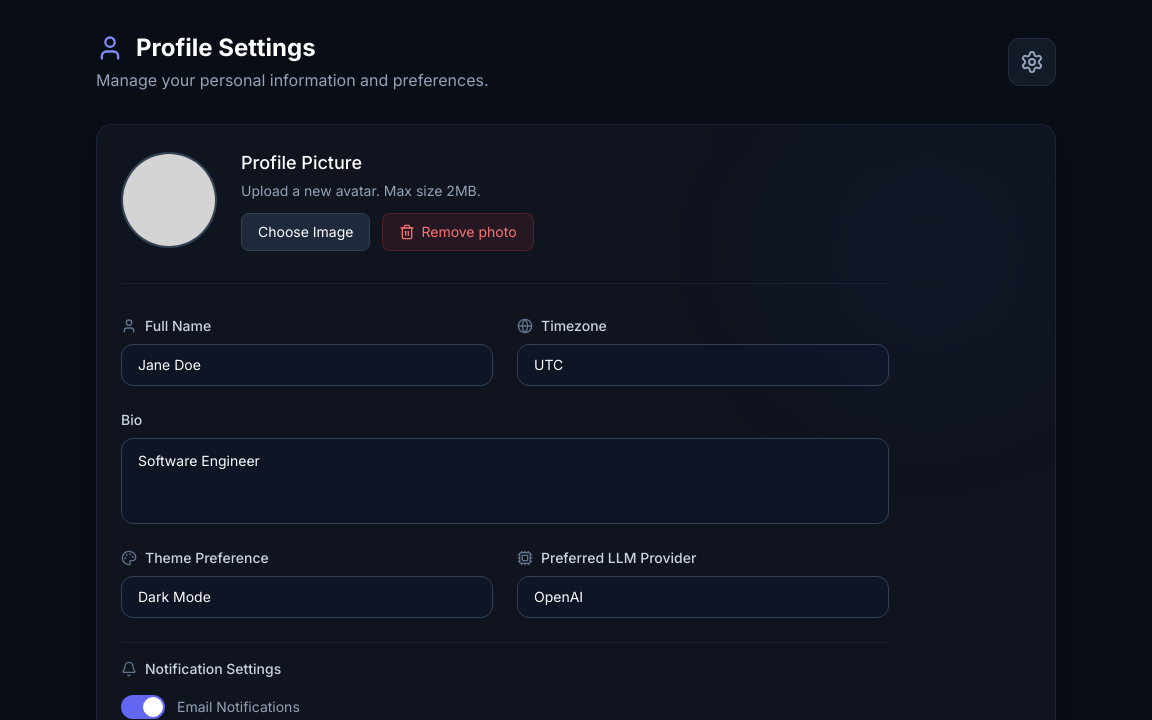
Test: ProfilePage and Photo Update › handles error gracefully when remove photo API fails
Click the button "Remove photo": [458, 232] box [382,213,534,251]
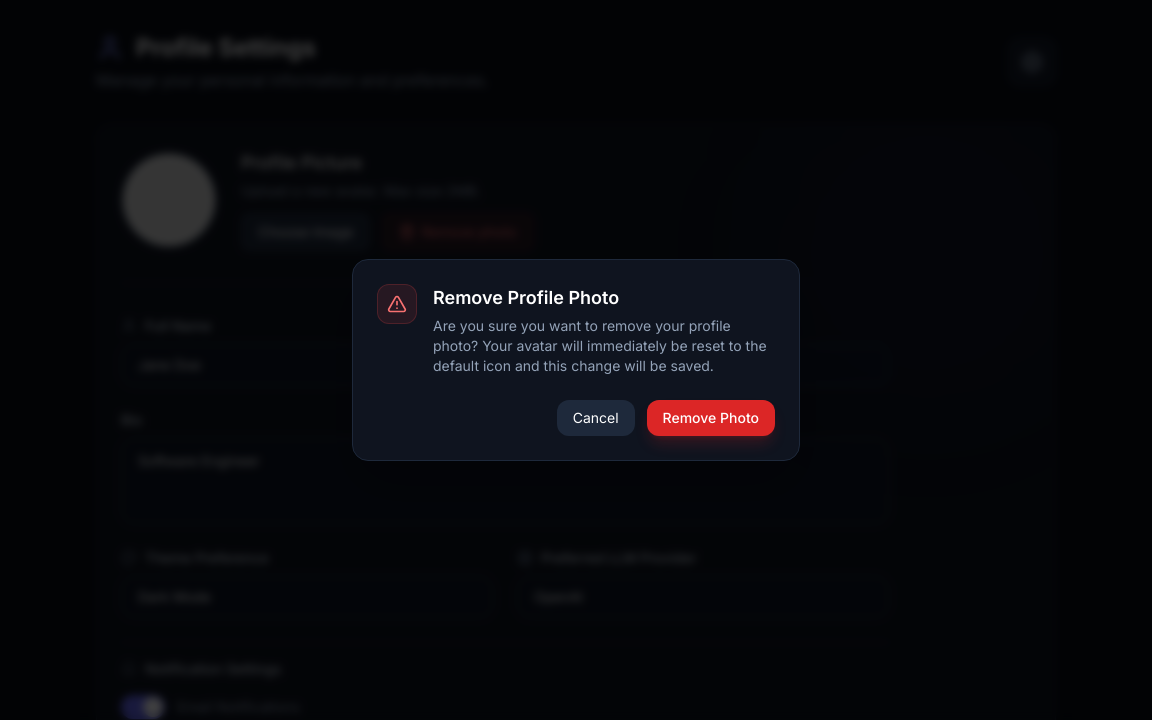
Click the button with id "btn-confirm-remove-photo": [711, 418] box [647,400,775,436]
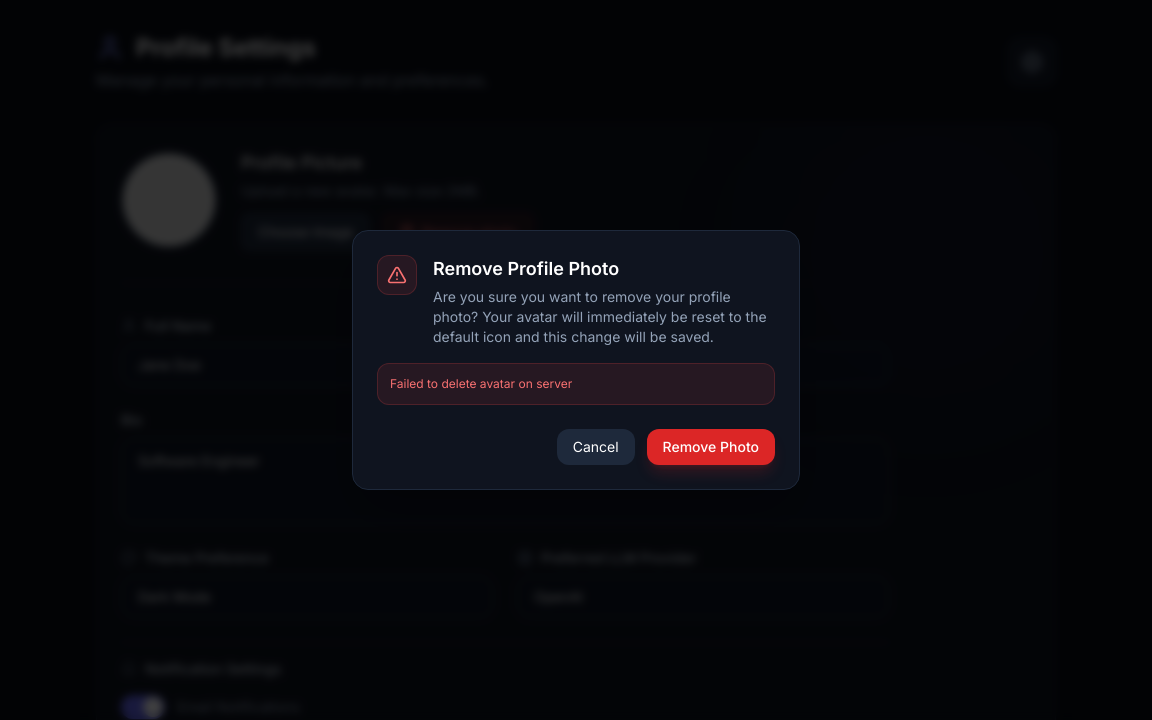
Expected: the heading "Remove Profile Photo" is shown, [433,258,619,279]
Expected: the text "Failed to delete avatar on server" is shown, [377,363,775,405]
